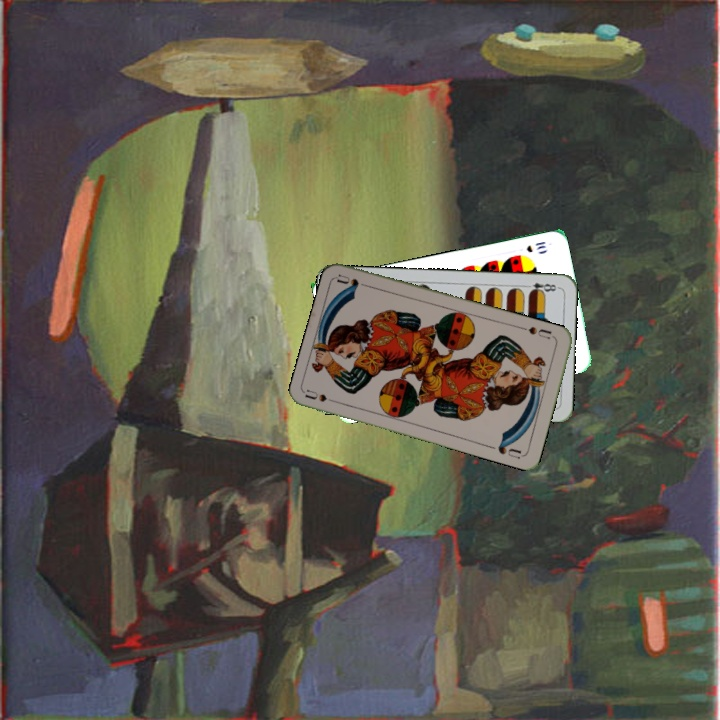E8: (520, 279, 561, 296)
S10: (522, 237, 548, 255)
SU: (302, 386, 343, 407), (524, 322, 558, 342)
